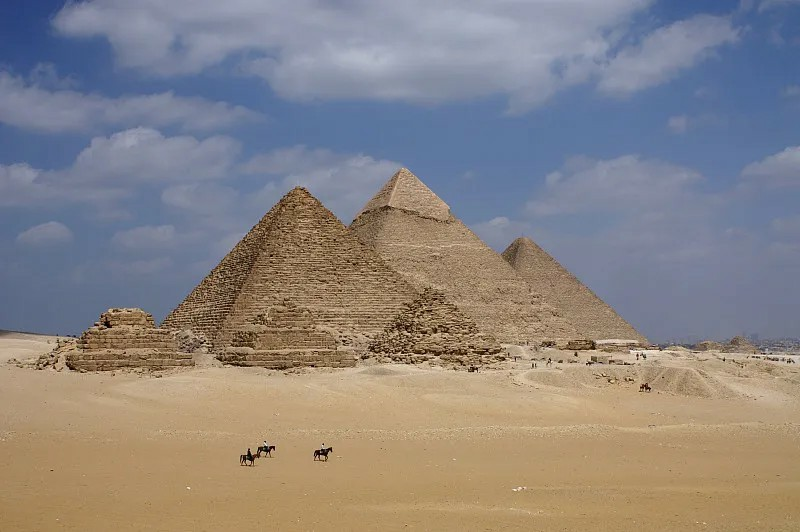Pyramid: (161, 186, 423, 353), (351, 169, 583, 350), (500, 234, 650, 343), (372, 286, 506, 366), (218, 300, 358, 368), (56, 307, 195, 371)
